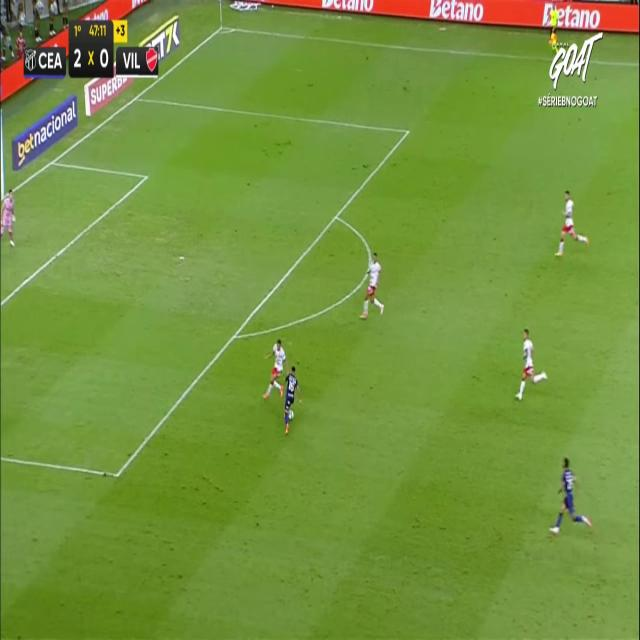ball: (289, 405, 297, 423)
goalkeeper: (0, 188, 16, 246)
player: (548, 455, 592, 536), (515, 327, 548, 401), (554, 188, 589, 256), (358, 251, 384, 319), (262, 338, 286, 399), (282, 364, 302, 434)
